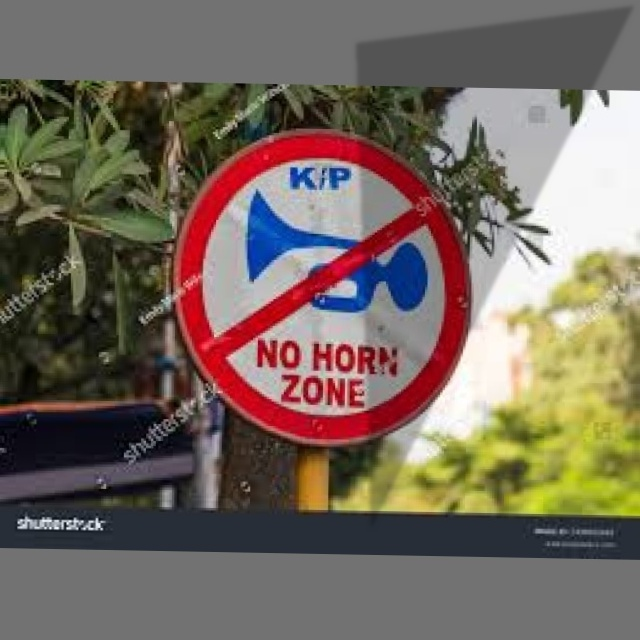Horn_Prohibited: (180, 129, 468, 439)
